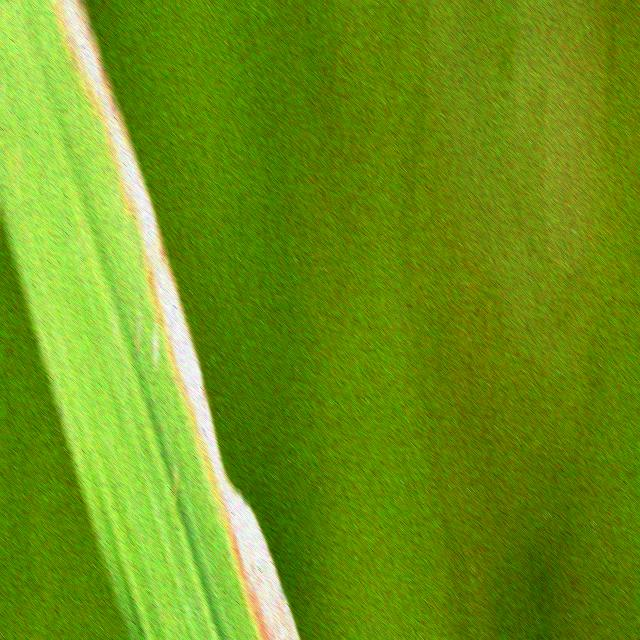BLB: (56, 2, 300, 640)
